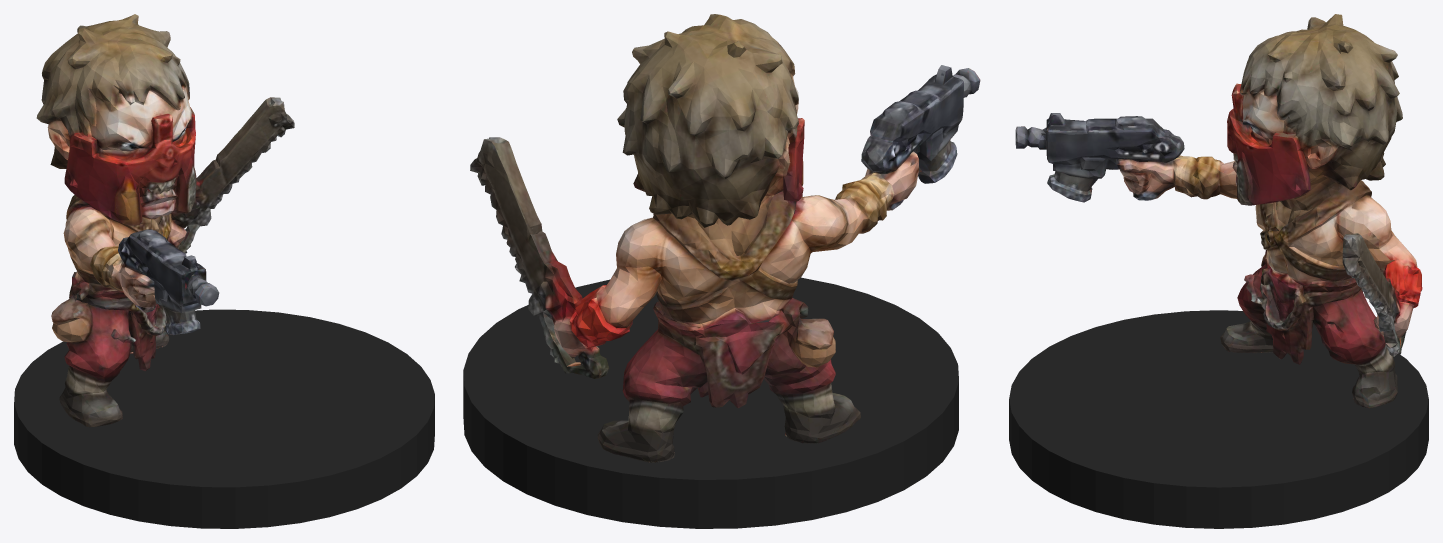
The model's file is jakhal.glb.
The picture shows the model from 3 angles, left to right: view 1: azimuth 30°, elevation 25°; view 2: azimuth 150°, elevation 25°; view 3: azimuth 270°, elevation 25°; orthographic projection. The views are drawn at different scales.
Visible parts, largest first — view 1: base, figure; view 2: figure, base; view 3: base, figure.
Part boxes in pixels (x1=…): base: x1=14, y1=309, x2=434, y2=528; figure: x1=36, y1=14, x2=294, y2=427; figure: x1=470, y1=14, x2=980, y2=462; base: x1=463, y1=277, x2=958, y2=528; base: x1=1009, y1=310, x2=1428, y2=528; figure: x1=1015, y1=14, x2=1422, y2=408.
Bounding box in the file's own units: 1.1 × 1.12 × 1.1.
2 materials, 1 textured.
